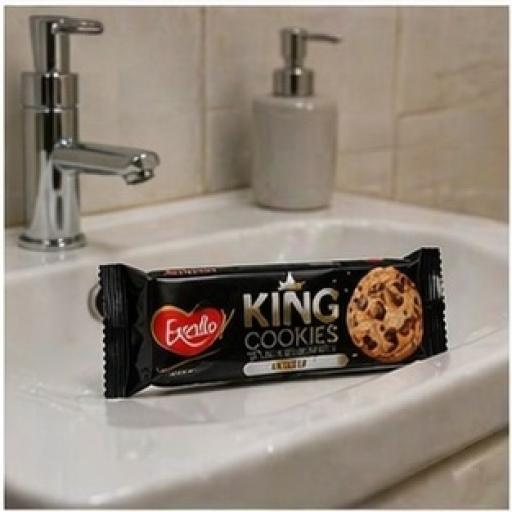king-cooking: (82, 230, 479, 416)
